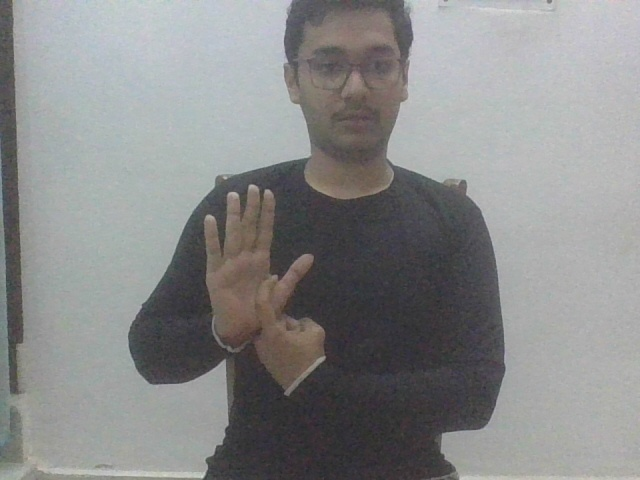R: (198, 182, 331, 399)
